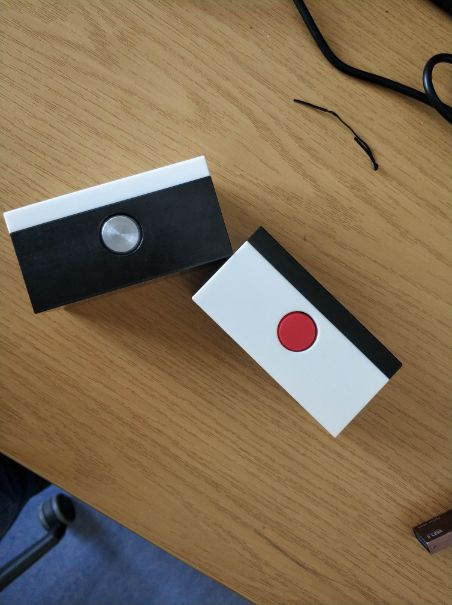black+white+red: (188, 223, 406, 440)
white+black+silver: (1, 152, 236, 319)
